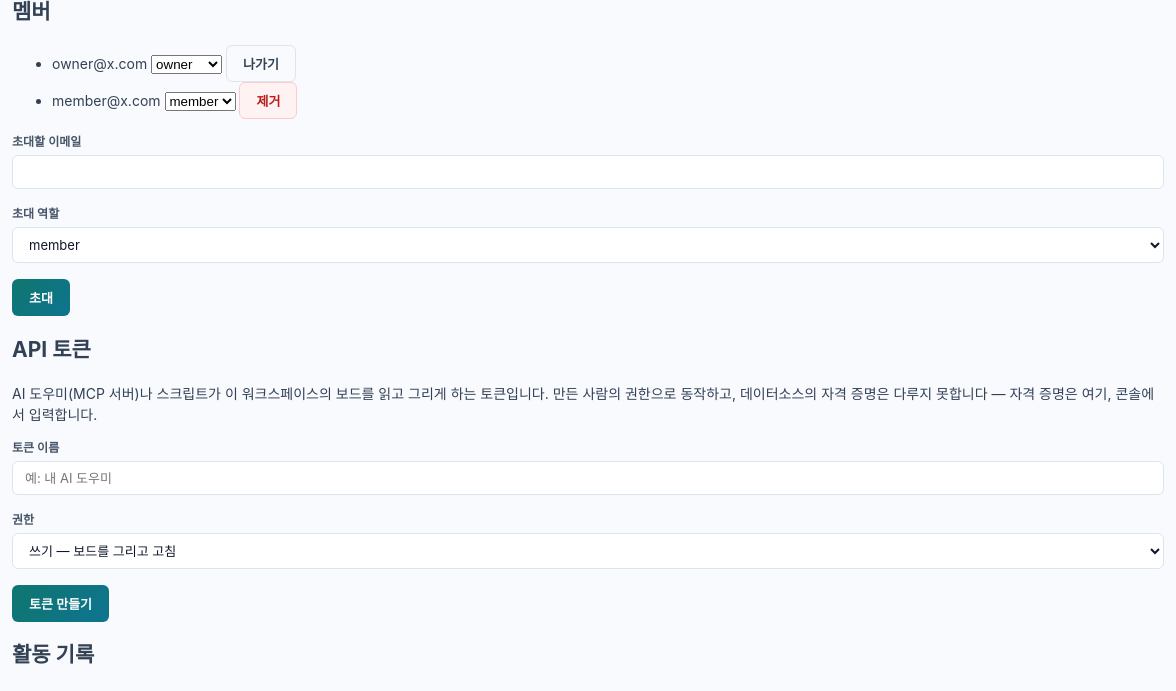
it: SettingsPage › shows an owner the workspace's activity record and reads it again after a change
Expected: the heading "활동 기록" is shown, x1=12 y1=642 x2=94 y2=667
Select "owner" in the dropdown named "member@x.com 역할": point(200, 102) x1=164 y1=92 x2=236 y2=111
(page scrolled)
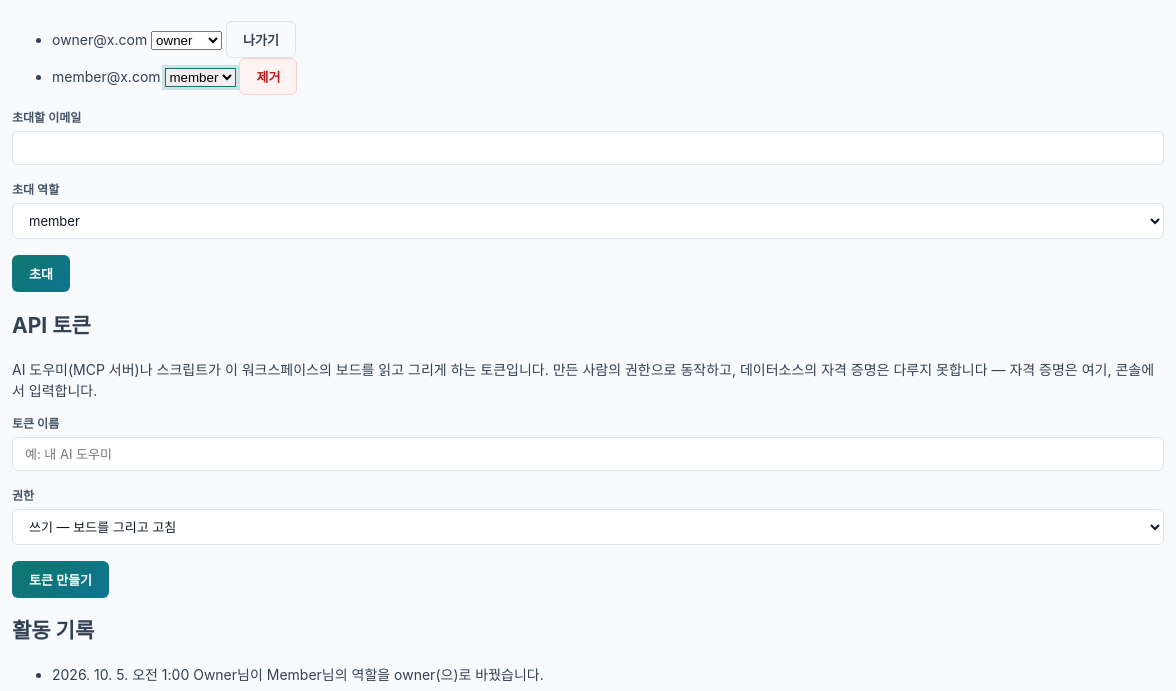
Expected: the list item "2026. 10. 5. 오전 1:00 Owner님이 Member님의 역할을 owner(으)로 바꿨습니다." is shown, x1=52 y1=666 x2=544 y2=683
